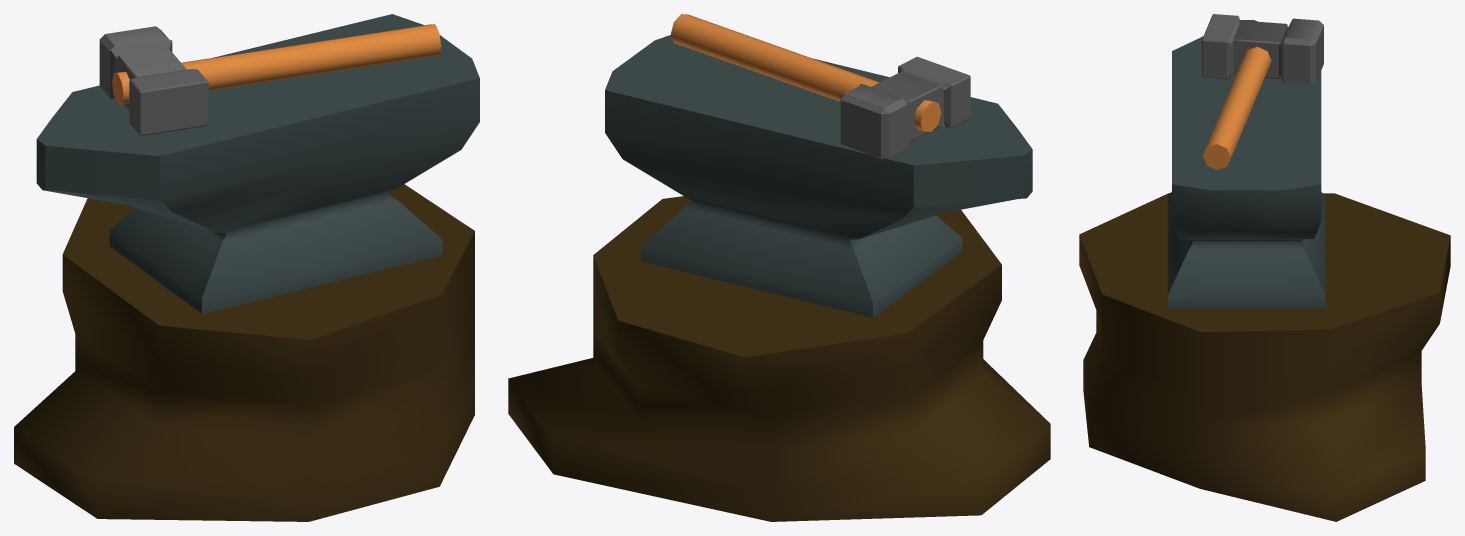
The model's file is anvil.FBX.
3 views of the same model, side by side, from view 1: azimuth 30°, elevation 25°; view 2: azimuth 150°, elevation 25°; view 3: azimuth 270°, elevation 25° (orthographic). The views are drawn at different scales.
Parts seen in each view (by area): view 1: Cylinder002, Box624, Cylinder066, Box1468; view 2: Cylinder002, Box624, Box1468, Cylinder066; view 3: Cylinder002, Box624, Box1468, Cylinder066.
Part boxes in pixels (<box>): Cylinder002: <box>14,184,474,521</box>; Box624: <box>36,14,479,313</box>; Cylinder066: <box>112,24,441,104</box>; Box1468: <box>99,26,208,135</box>; Cylinder002: <box>508,196,1050,521</box>; Box624: <box>605,35,1032,317</box>; Box1468: <box>840,56,970,159</box>; Cylinder066: <box>671,14,941,131</box>; Cylinder002: <box>1079,193,1450,521</box>; Box624: <box>1167,20,1325,308</box>; Box1468: <box>1202,14,1323,85</box>; Cylinder066: <box>1203,46,1271,169</box>.
Size of the model in its own units: 83.05 by 65.72 by 64.36.
